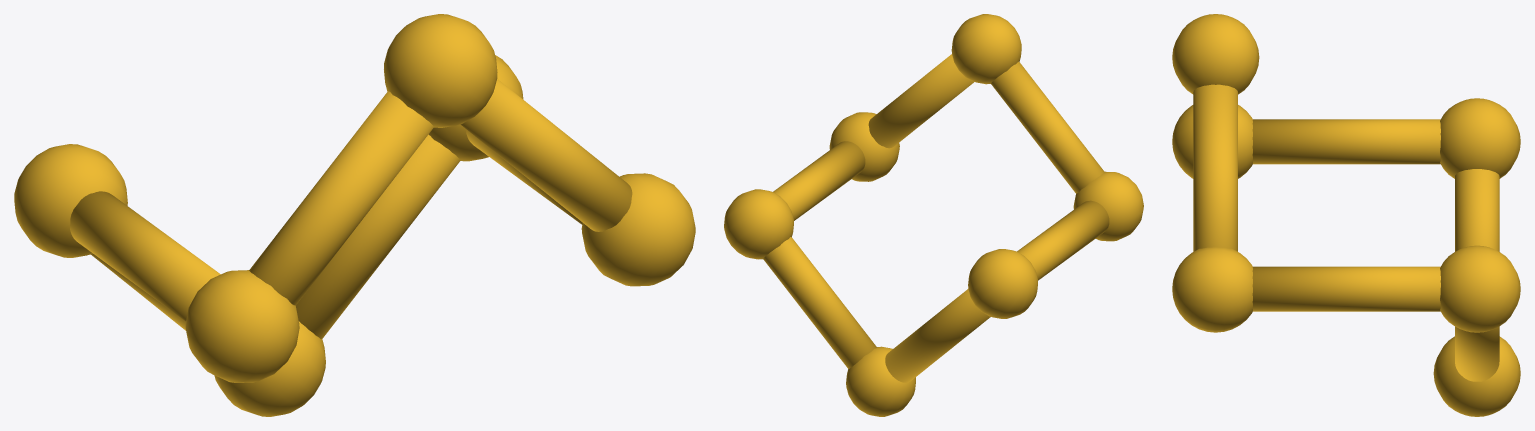
Rendered from sulphur.glb.
3 renders of one model, left to right at view 1: azimuth 30°, elevation 25°; view 2: azimuth 150°, elevation 25°; view 3: azimuth 270°, elevation 25°, orthographic. The views are drawn at different scales.
Visible parts, largest first — view 1: Sphere.001; view 2: Sphere.001; view 3: Sphere.001.
Boxes of the visible parts, left/top/right/bottom form: Sphere.001: left=14, top=14, right=695, bottom=416; Sphere.001: left=724, top=14, right=1143, bottom=416; Sphere.001: left=1172, top=14, right=1520, bottom=416.
Size of the model in its own units: 10 by 10 by 8.
